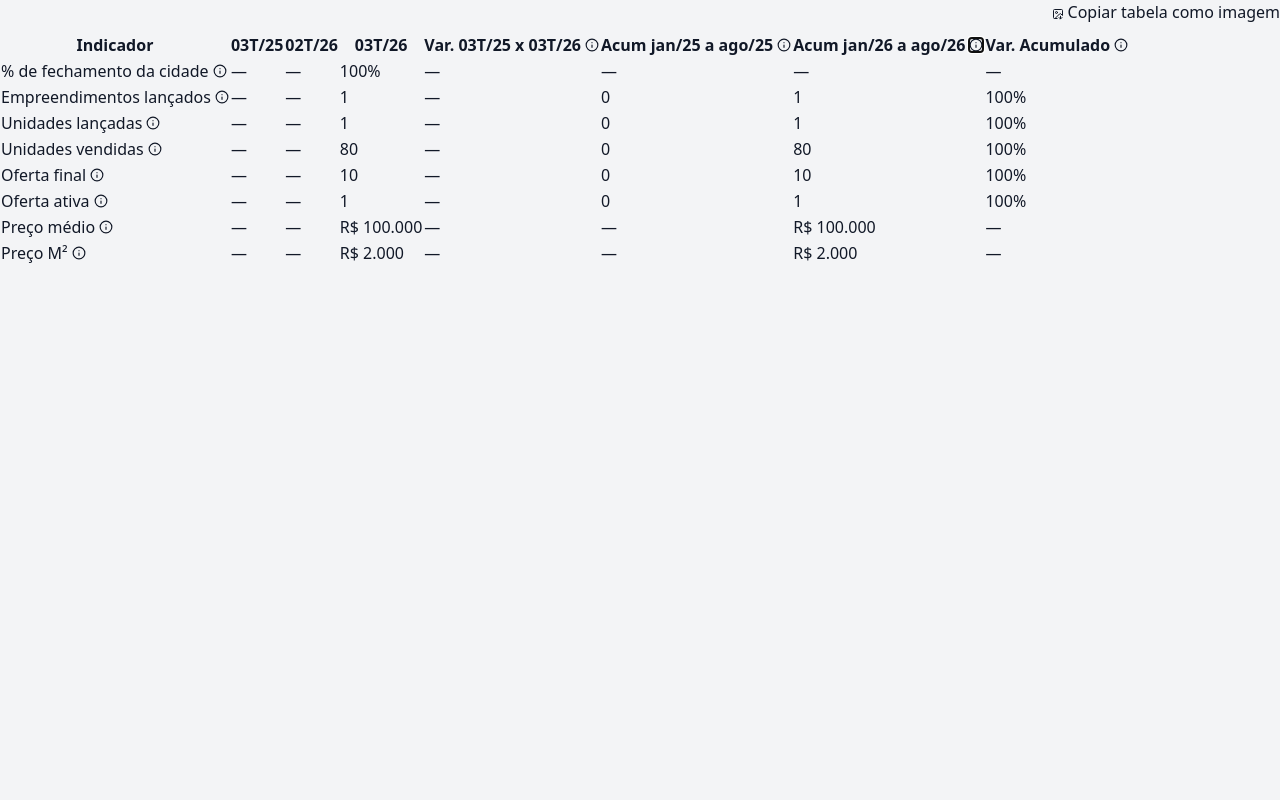
Test: variação anual do Resumo email › a ajuda de Acumulado do ano atual descreve a regra vigente
Click the button named "Regra de cálculo — Acumulado do ano atual" at (976, 45), box [969, 38, 983, 52]
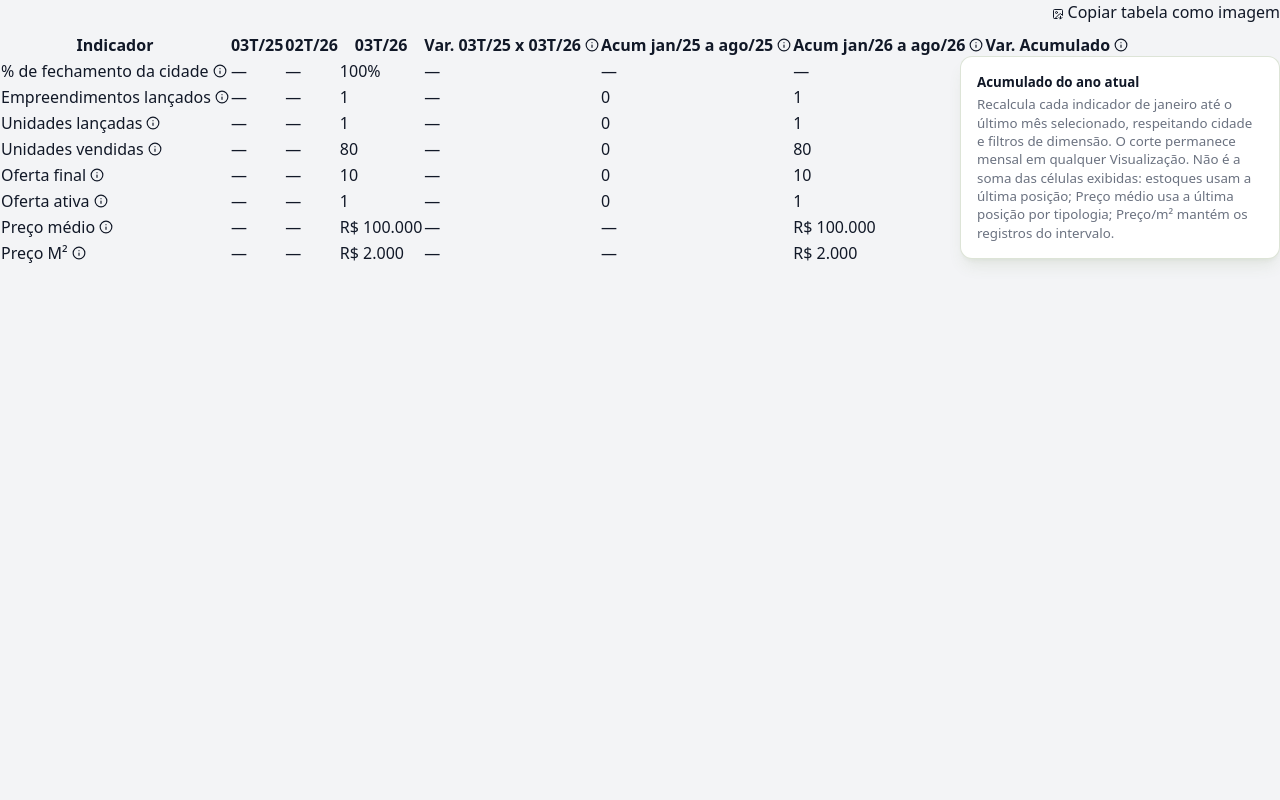
Result: the dialog shows "O corte permanece mensal em qualquer Visualização" at [977, 95, 1252, 242]
Press Escape in the dialog, box [960, 56, 1279, 259]
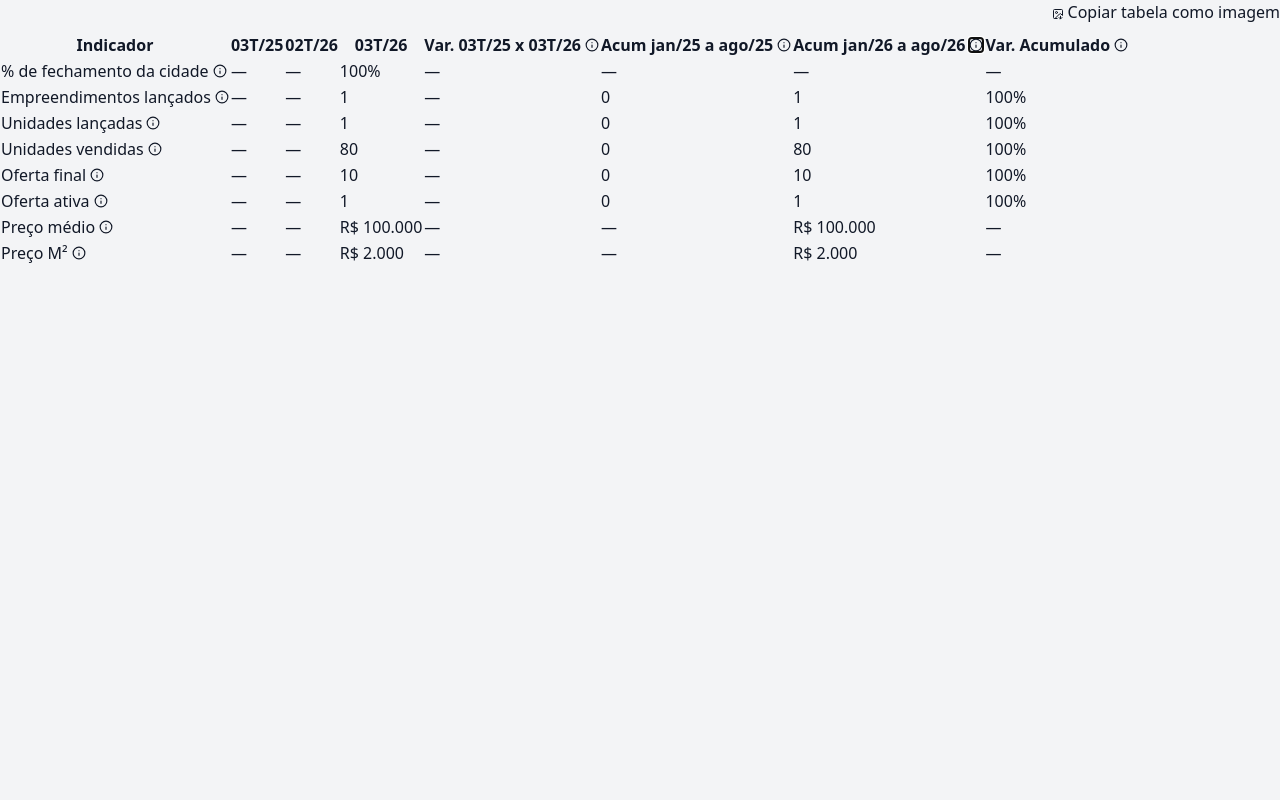
Result: the dialog is gone
